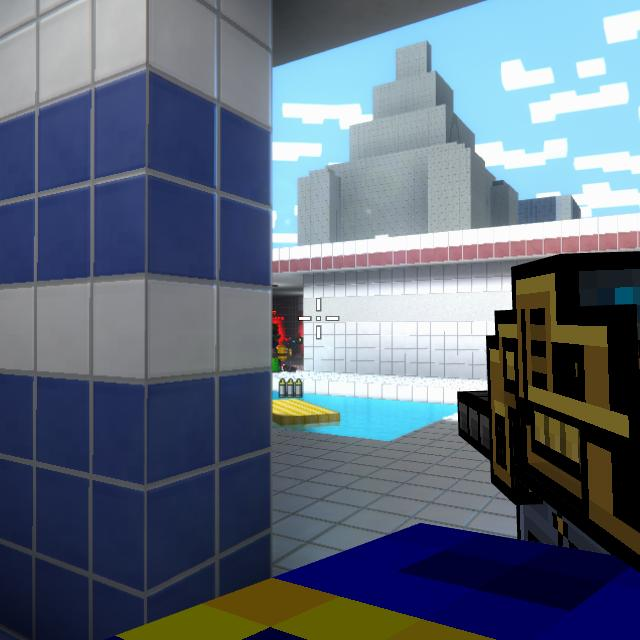Enemy: (272, 323, 281, 348), (296, 327, 303, 356)
